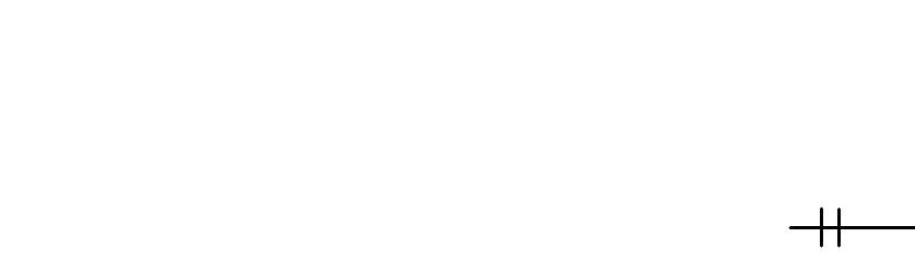115_buffer: (819, 207, 841, 248)
